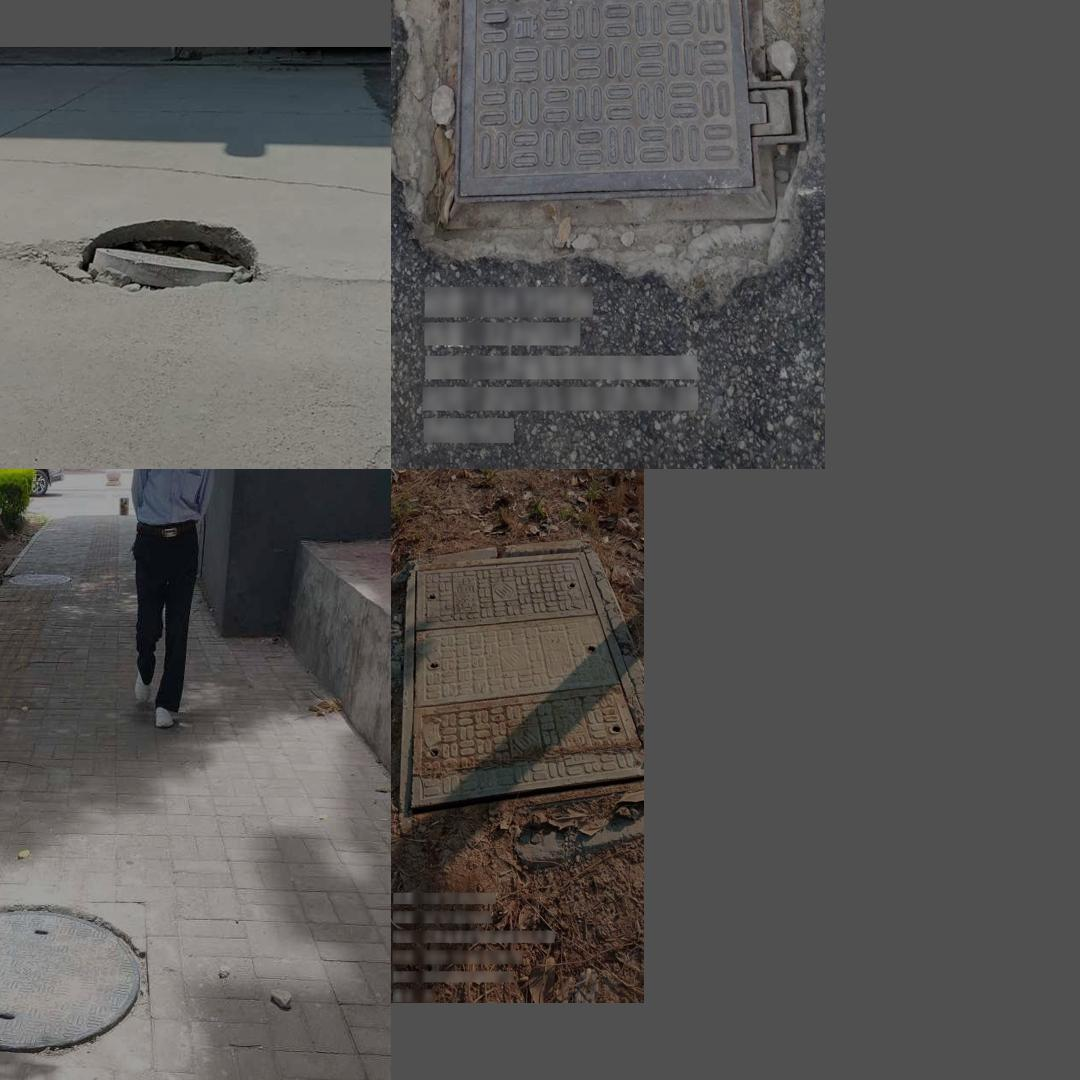circle: (413, 0, 810, 263), (394, 541, 644, 824), (15, 209, 279, 313), (0, 904, 146, 1056)
